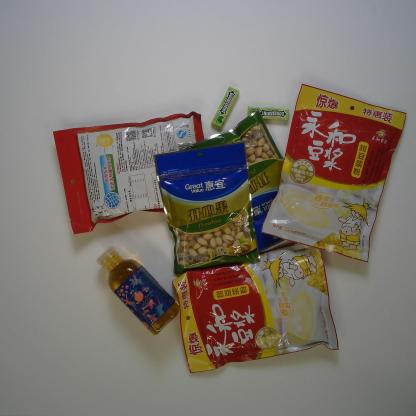Dried Fruit: (181, 109, 292, 255), (152, 139, 261, 279)
Drink: (95, 245, 181, 337)
Gum: (210, 84, 242, 131), (245, 108, 294, 124)
Instant Drink: (259, 81, 407, 265), (170, 244, 341, 374), (50, 110, 207, 235)
